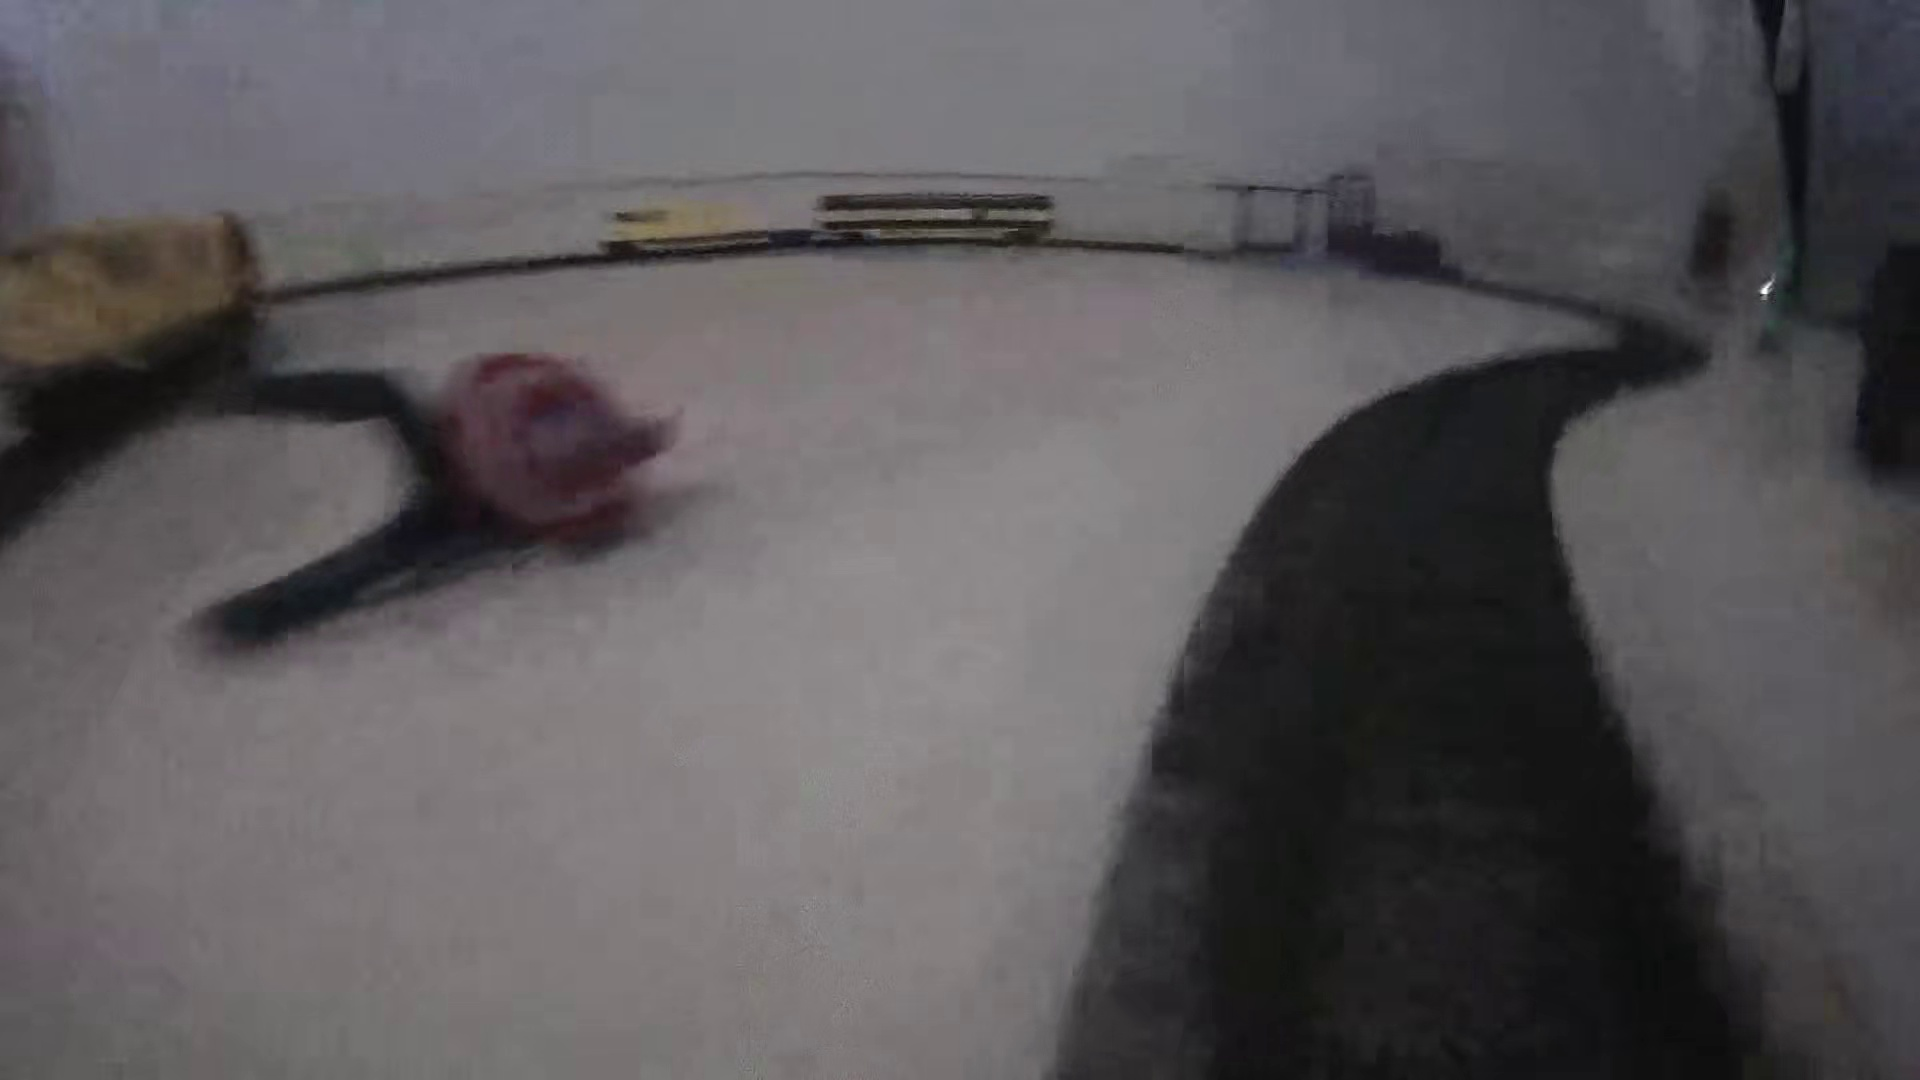people: (165, 336, 683, 664)
